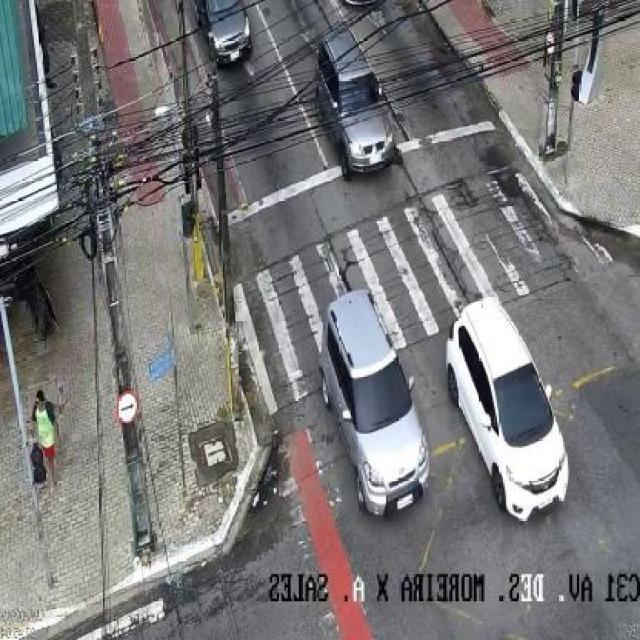Car: (437, 266, 583, 518), (321, 275, 436, 515), (299, 19, 411, 179), (181, 0, 264, 68)
